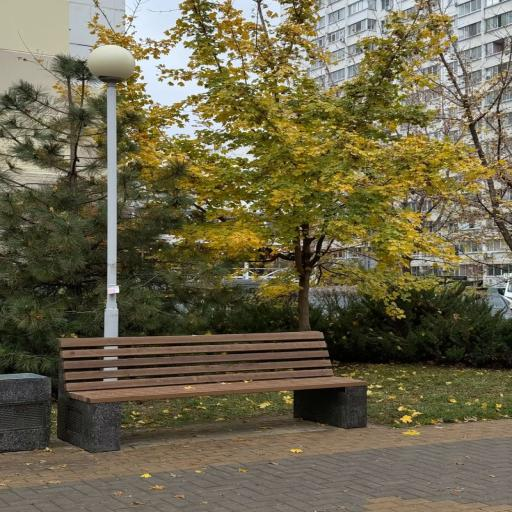trash_bin: (58, 332, 366, 452)
